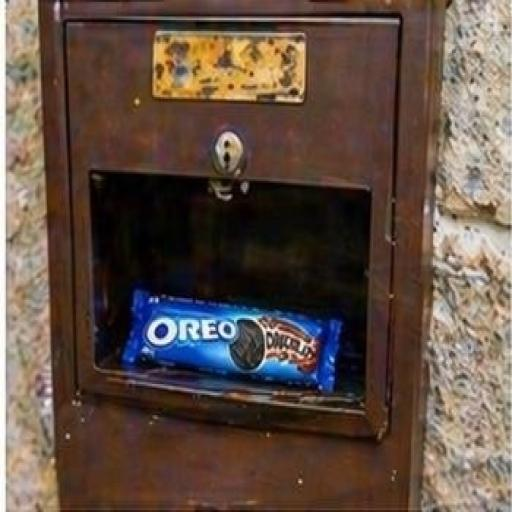oreo: (107, 246, 377, 437)
